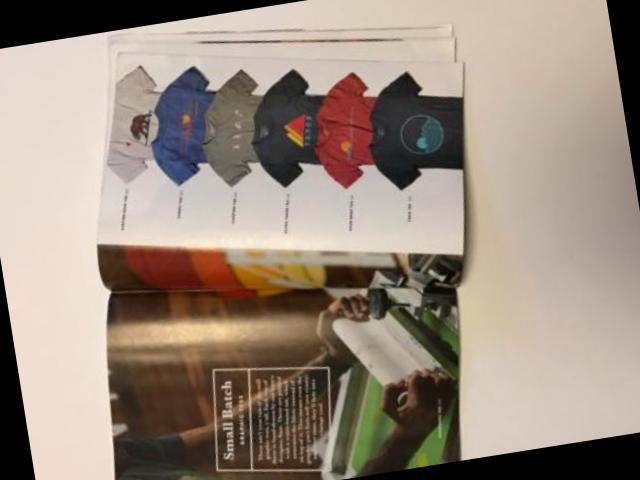cardboard paper: (95, 19, 465, 480)
